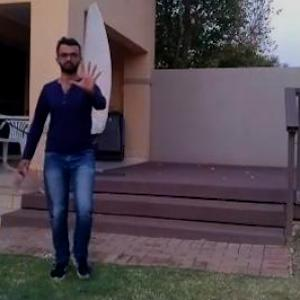follow_hand: (66, 50, 108, 96)
